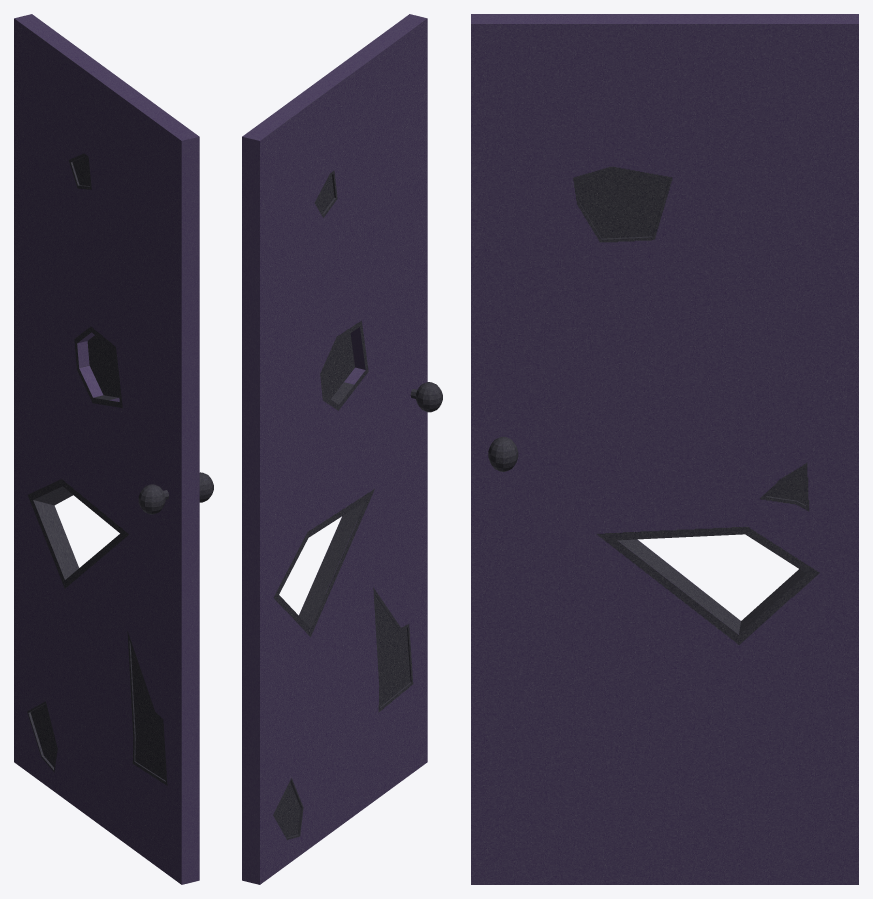
File: CorruptionDarkDoor.fbx
The picture shows the model from 3 angles, left to right: view 1: azimuth 30°, elevation 25°; view 2: azimuth 150°, elevation 25°; view 3: azimuth 270°, elevation 25°; orthographic projection. The views are drawn at different scales.
Visible parts, largest first — view 1: CorruptionDarkDoor; view 2: CorruptionDarkDoor; view 3: CorruptionDarkDoor.
Boxes of the visible parts, bbox=[...] form: CorruptionDarkDoor: bbox=[14, 14, 213, 884]; CorruptionDarkDoor: bbox=[242, 14, 442, 884]; CorruptionDarkDoor: bbox=[471, 14, 858, 884].
Size of the model in its own units: 17.55 by 173 by 70.73.
